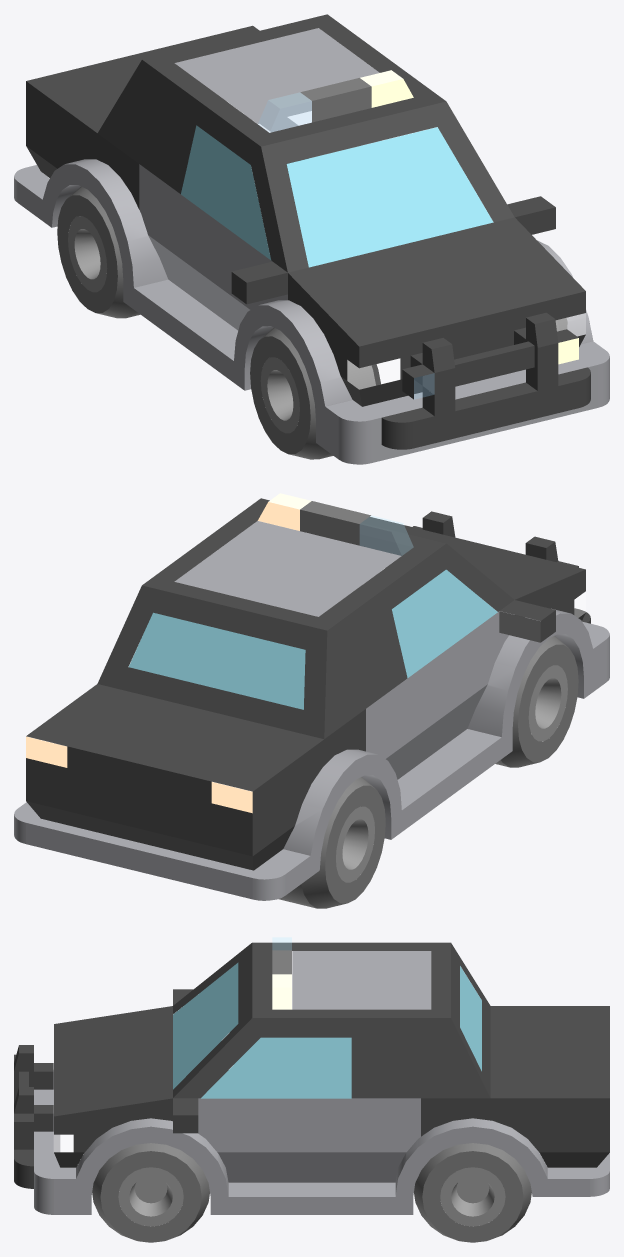
The model's file is police.glb.
The picture shows the model from 3 angles, top to bottom: view 1: azimuth 30°, elevation 25°; view 2: azimuth 150°, elevation 25°; view 3: azimuth 270°, elevation 25°; orthographic projection. The views are drawn at different scales.
Parts seen in each view (by area): view 1: body, grill, wheel_frontRight, wheel_backRight; view 2: body, wheel_backRight, wheel_frontRight, grill; view 3: body, wheel_frontLeft, wheel_backLeft, grill.
Boxes of the visible parts, left/top/right/bottom form: body: left=14, top=14, right=609, bottom=464; grill: left=381, top=312, right=590, bottom=449; wheel_frontRight: left=250, top=327, right=375, bottom=459; wheel_backRight: left=57, top=186, right=140, bottom=318; body: left=14, top=493, right=609, bottom=900; wheel_backRight: left=259, top=777, right=385, bottom=908; wheel_frontRight: left=495, top=635, right=578, bottom=767; grill: left=413, top=511, right=590, bottom=623; body: left=34, top=937, right=609, bottom=1214; wheel_frontLeft: left=92, top=1143, right=209, bottom=1242; wheel_backLeft: left=414, top=1143, right=531, bottom=1242; grill: left=14, top=1045, right=53, bottom=1188.
Bounding box in the file's own units: 1.5 × 1.3 × 3.
